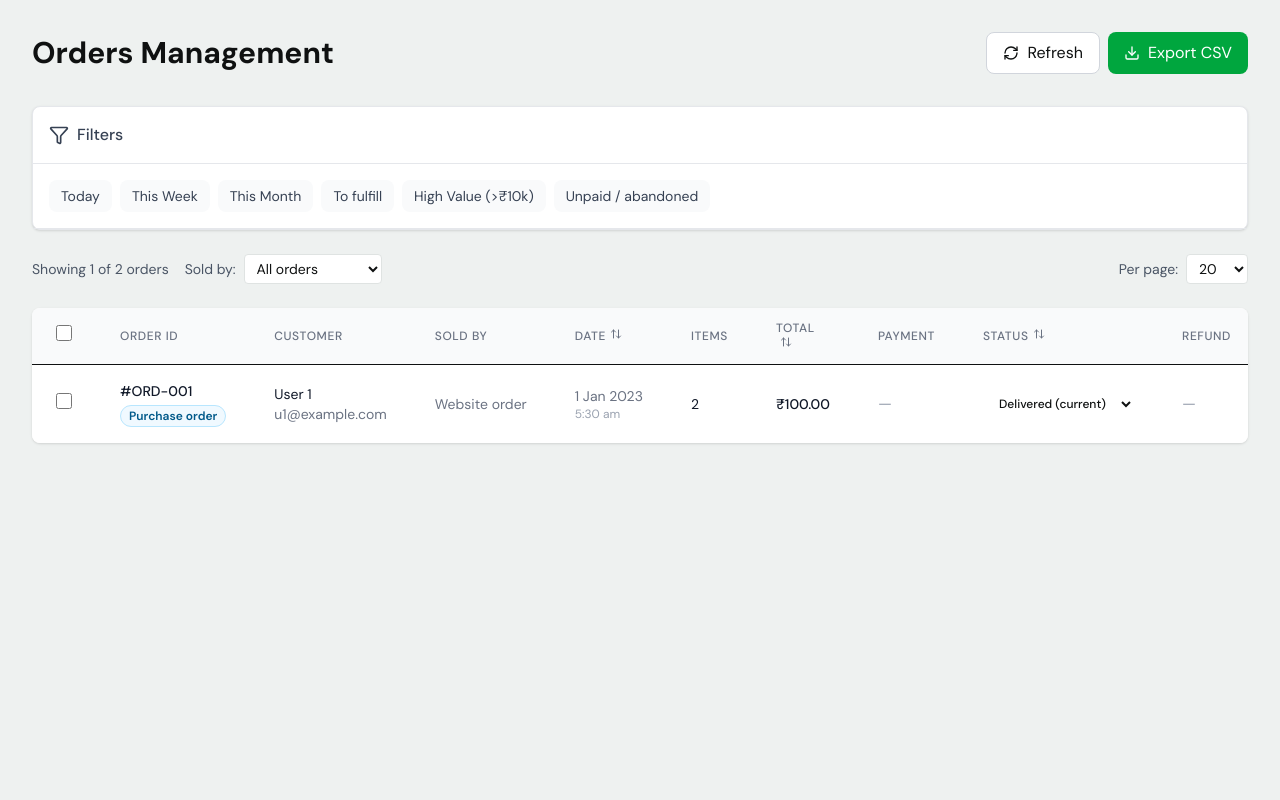
AdminOrdersPage › shipping hand-off to the Parcels panel › keeps the dialog for a multi-item order in delivered, so the rejection is still visible
Check: the text "#ORD-001" is shown, box [120,382,192,400]
Select "Shipped" in the 3rd dropdown at (1058, 404), box [983,391,1134,417]
(page scrolled)
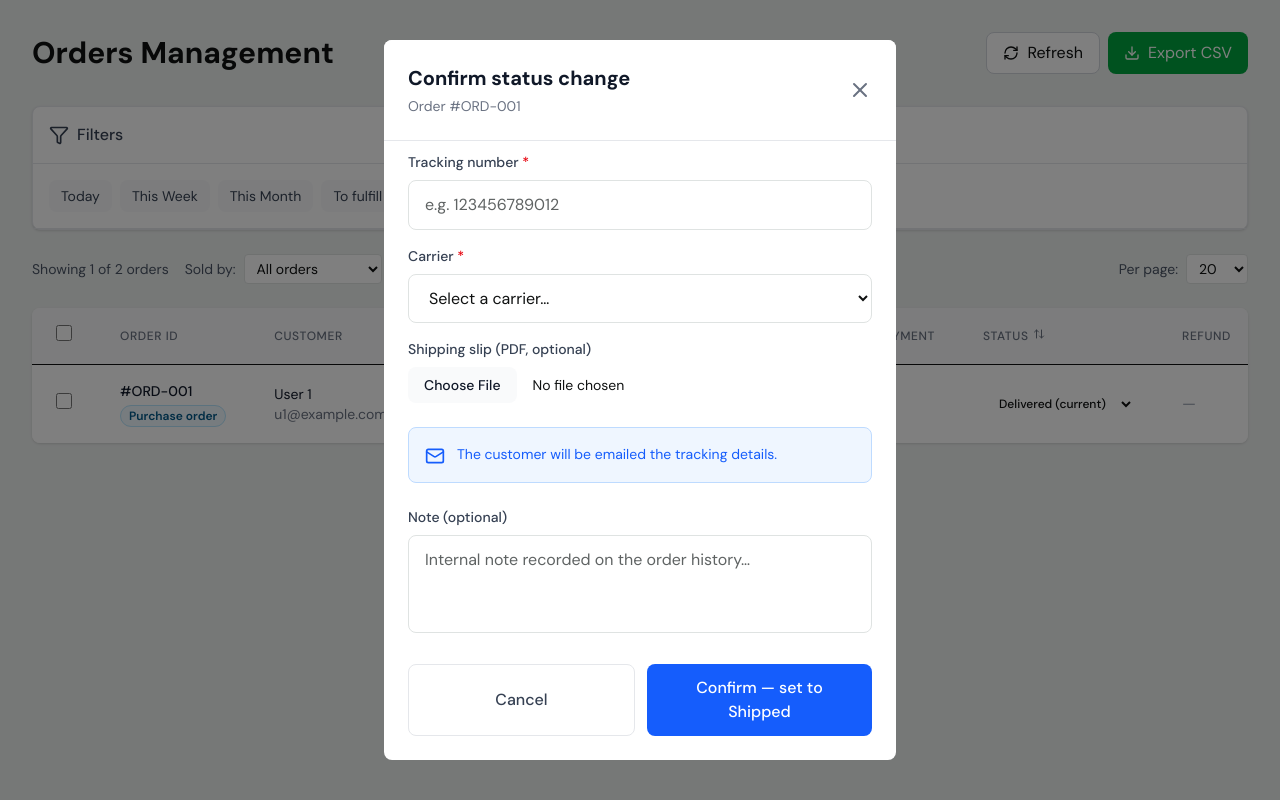
Check: the button "Confirm — set to Shipped" is shown, box [647,664,872,736]
